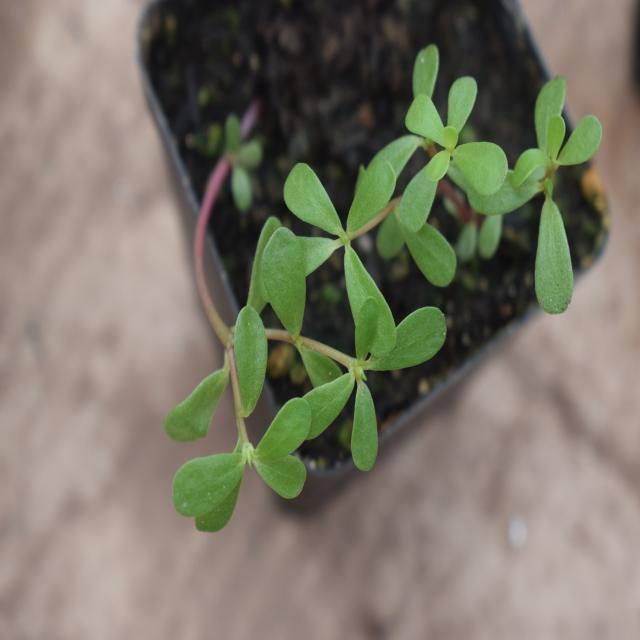purslane: (177, 64, 606, 518)
